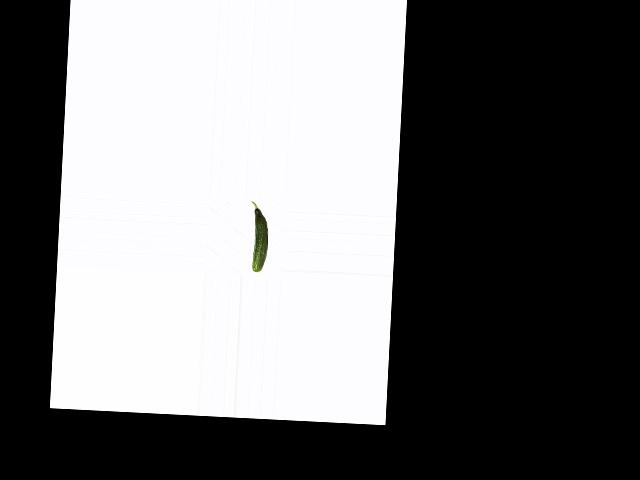cucumber: (248, 200, 269, 272)
